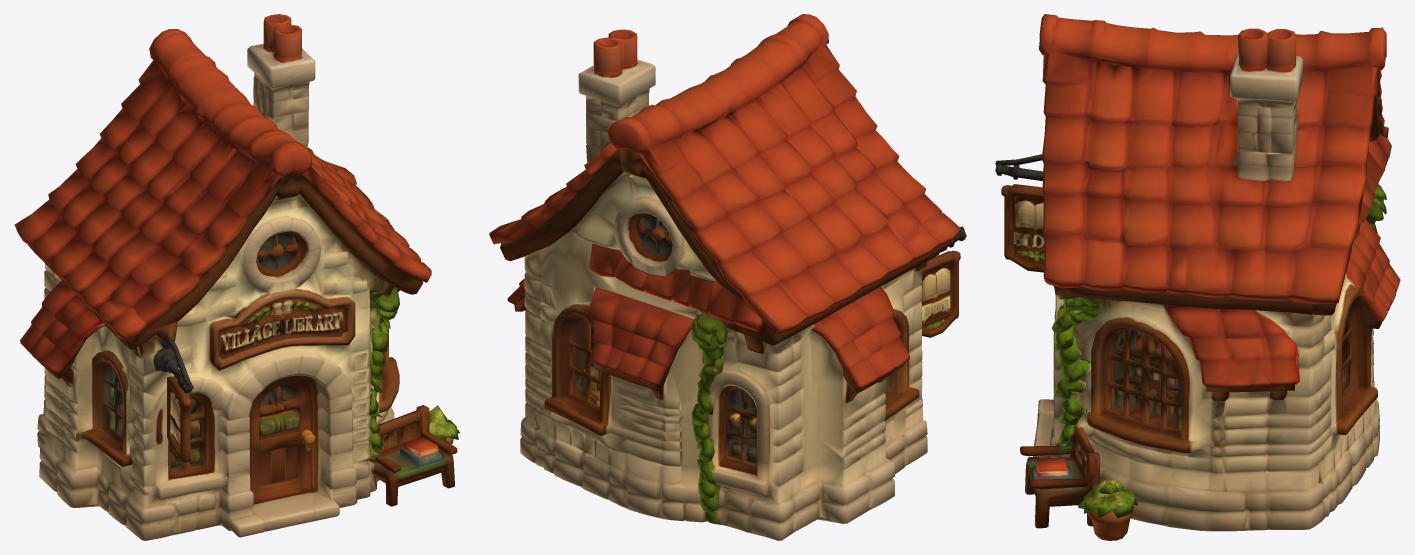
File: village_library.glb
3 views of the same model, side by side, from view 1: azimuth 30°, elevation 25°; view 2: azimuth 150°, elevation 25°; view 3: azimuth 270°, elevation 25° (orthographic). The views are drawn at different scales.
Visible parts, largest first — view 1: tripo_node_c7178454-bb60-45a0-9064-809742e58991; view 2: tripo_node_c7178454-bb60-45a0-9064-809742e58991; view 3: tripo_node_c7178454-bb60-45a0-9064-809742e58991.
Boxes of the visible parts, bbox=[...] form: tripo_node_c7178454-bb60-45a0-9064-809742e58991: bbox=[14, 14, 459, 540]; tripo_node_c7178454-bb60-45a0-9064-809742e58991: bbox=[489, 14, 966, 540]; tripo_node_c7178454-bb60-45a0-9064-809742e58991: bbox=[995, 14, 1400, 540].
Size of the model in its own units: 0.9096 by 0.9786 by 0.7871.
1 material, 1 textured.
